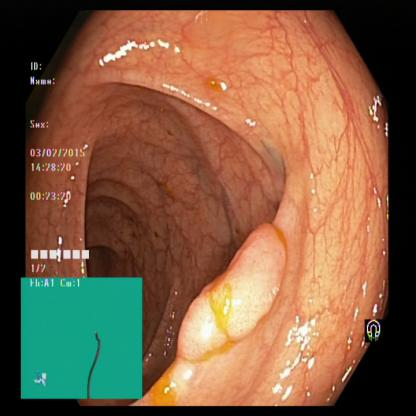Labels: (27, 56, 94, 278), (22, 278, 142, 398), (361, 308, 390, 355)
Polyps: (180, 224, 292, 354)
